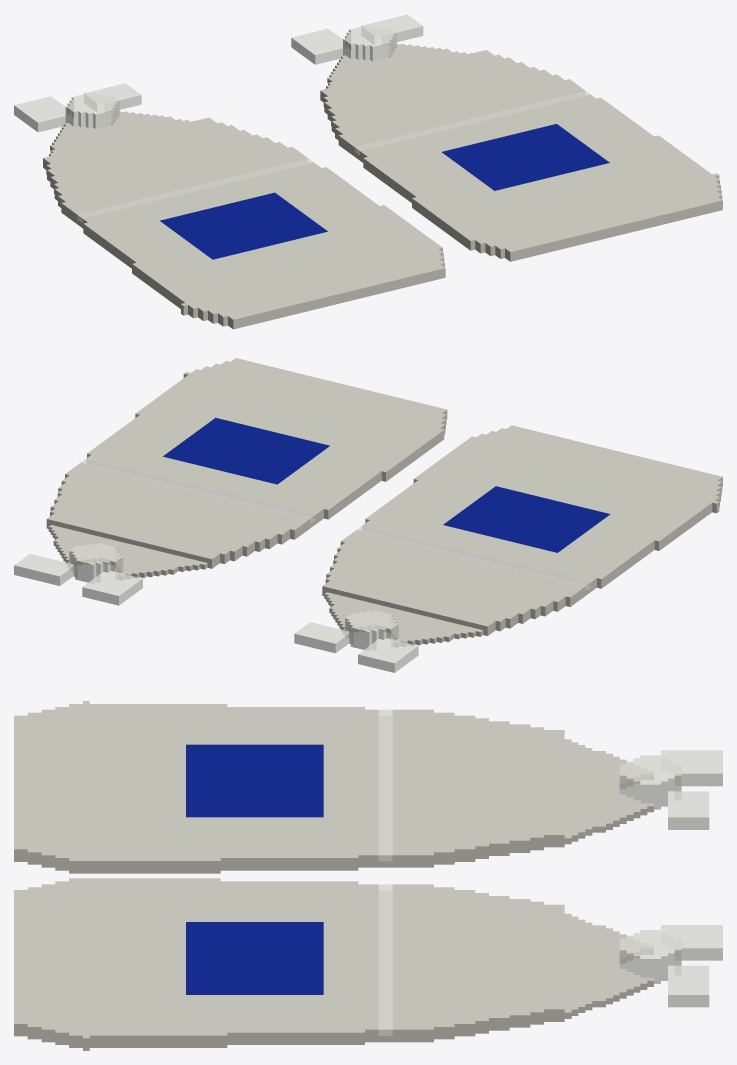
Rendered from socks_bag.glb.
The picture shows the model from 3 angles, top to bottom: view 1: azimuth 30°, elevation 25°; view 2: azimuth 150°, elevation 25°; view 3: azimuth 270°, elevation 25°; orthographic projection. The views are drawn at different scales.
Parts seen in each view (by area): view 1: socks_bag:compound; view 2: socks_bag:compound; view 3: socks_bag:compound.
Part boxes in pixels (box(x1,y1,x2,y2)): socks_bag:compound: box(14, 14, 722, 329); socks_bag:compound: box(14, 358, 722, 672); socks_bag:compound: box(14, 701, 722, 1050).
Size of the model in its own units: 0.464 by 0.016 by 0.412.
